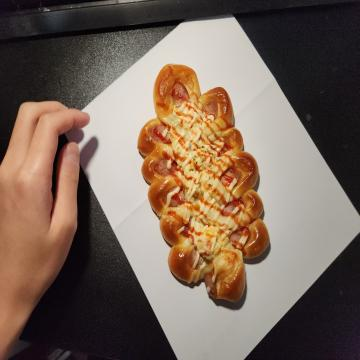pizza_bread: (136, 64, 272, 313)
